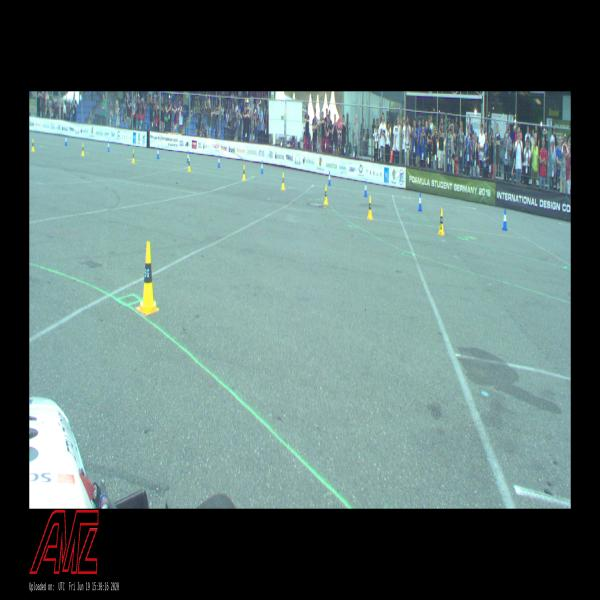blue_cone: (502, 208, 507, 231), (418, 192, 422, 211), (364, 180, 367, 197), (328, 171, 331, 186), (261, 161, 264, 174), (157, 147, 160, 159), (218, 154, 220, 168), (108, 140, 110, 152), (187, 151, 189, 163), (65, 135, 67, 146)
yellow_cone: (138, 241, 159, 314), (438, 208, 444, 235), (368, 195, 372, 220), (324, 185, 328, 205), (242, 164, 246, 181), (281, 173, 285, 190), (188, 157, 191, 172), (132, 150, 135, 164), (32, 139, 34, 152), (82, 143, 84, 156)
